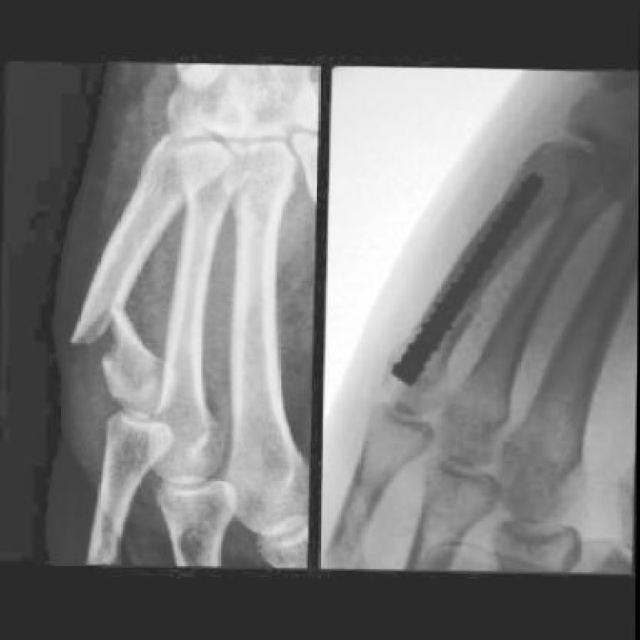Fracture: (60, 292, 152, 391)
